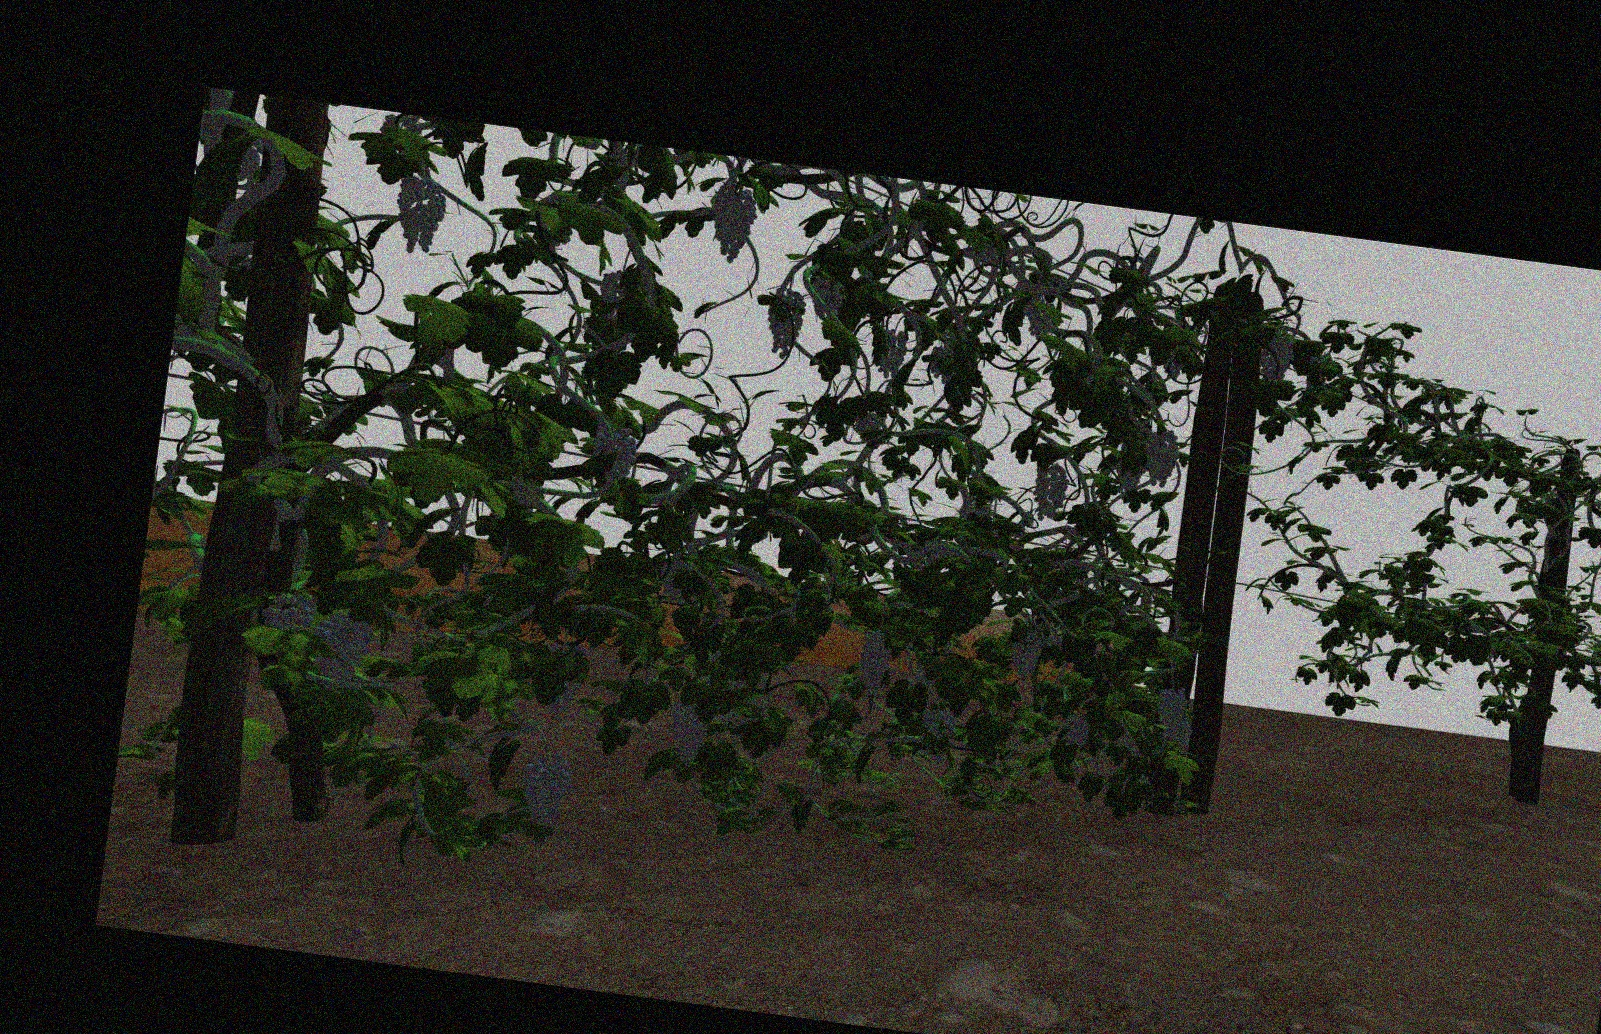grape: (312, 613, 368, 684), (706, 182, 753, 265), (394, 177, 443, 256), (520, 752, 571, 824), (665, 700, 709, 766), (765, 287, 804, 359), (590, 425, 637, 478), (857, 628, 893, 693), (1256, 329, 1296, 385), (1029, 459, 1070, 515), (261, 591, 314, 634), (1146, 429, 1179, 488), (1009, 627, 1042, 680), (873, 329, 908, 377), (810, 274, 845, 317), (1022, 295, 1054, 340), (920, 701, 958, 738), (1158, 687, 1184, 735), (1061, 712, 1089, 748), (1175, 721, 1191, 755)
